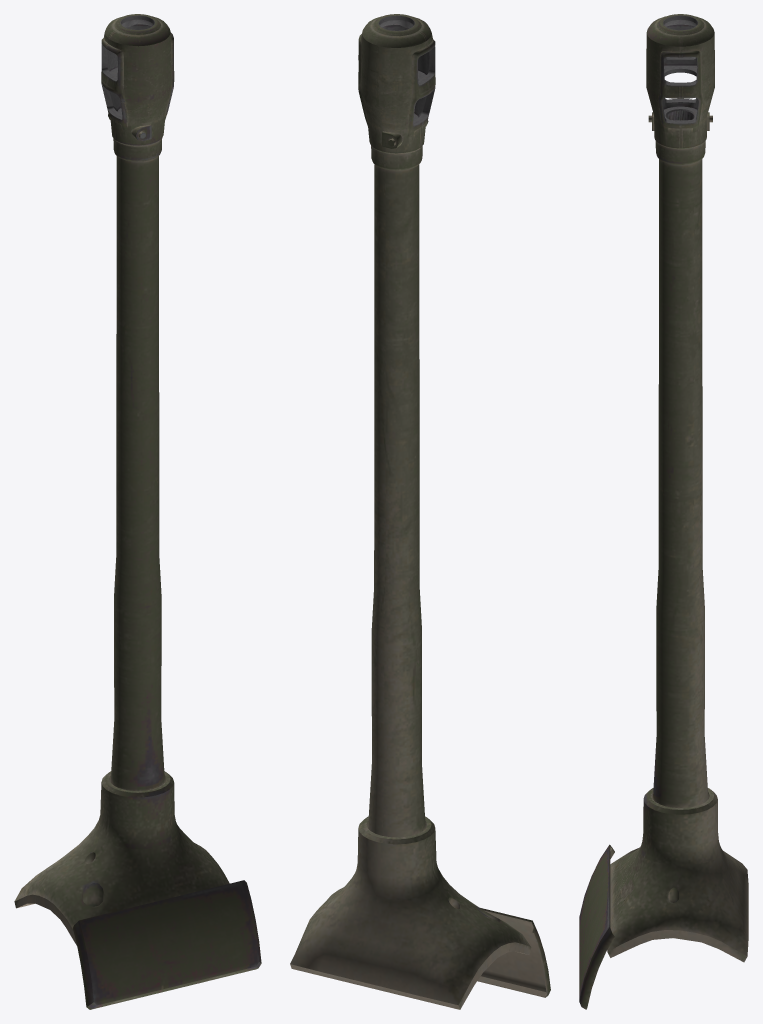
Rendered from Gun_04.glb.
The picture shows the model from 3 angles, left to right: view 1: azimuth 30°, elevation 25°; view 2: azimuth 150°, elevation 25°; view 3: azimuth 270°, elevation 25°; orthographic projection. The views are drawn at different scales.
Parts seen in each view (by area): view 1: set_0_group_0; view 2: set_0_group_0; view 3: set_0_group_0.
Part boxes in pixels (x1=…): set_0_group_0: x1=14, y1=14, x2=261, y2=1009; set_0_group_0: x1=290, y1=14, x2=550, y2=1009; set_0_group_0: x1=579, y1=14, x2=748, y2=1009.
Size of the model in its own units: 0.8999 by 4.63 by 0.7476.
1 material, 1 textured.
